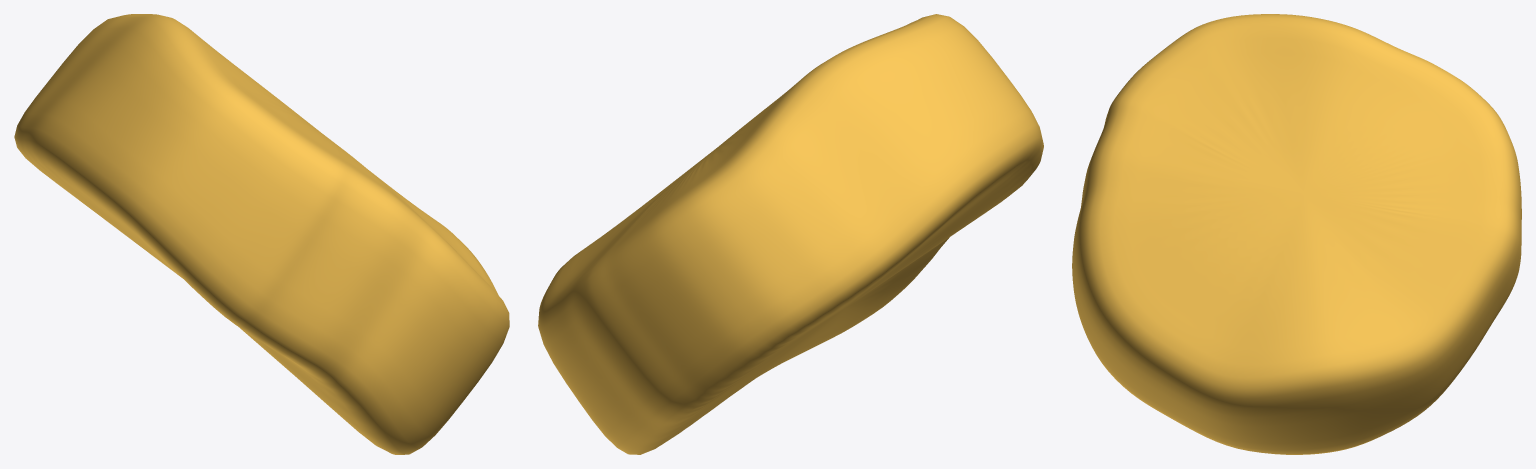
The model's file is pizza.fbx.
3 views of the same model, side by side, from view 1: azimuth 30°, elevation 25°; view 2: azimuth 150°, elevation 25°; view 3: azimuth 270°, elevation 25° (orthographic). The views are drawn at different scales.
Parts seen in each view (by area): view 1: Plan.006; view 2: Plan.006; view 3: Plan.006.
Part boxes in pixels (<box>): Plan.006: <box>14,14,509,454</box>; Plan.006: <box>538,14,1043,454</box>; Plan.006: <box>1072,14,1521,454</box>.
Size of the model in its own units: 280 by 278 by 319.
